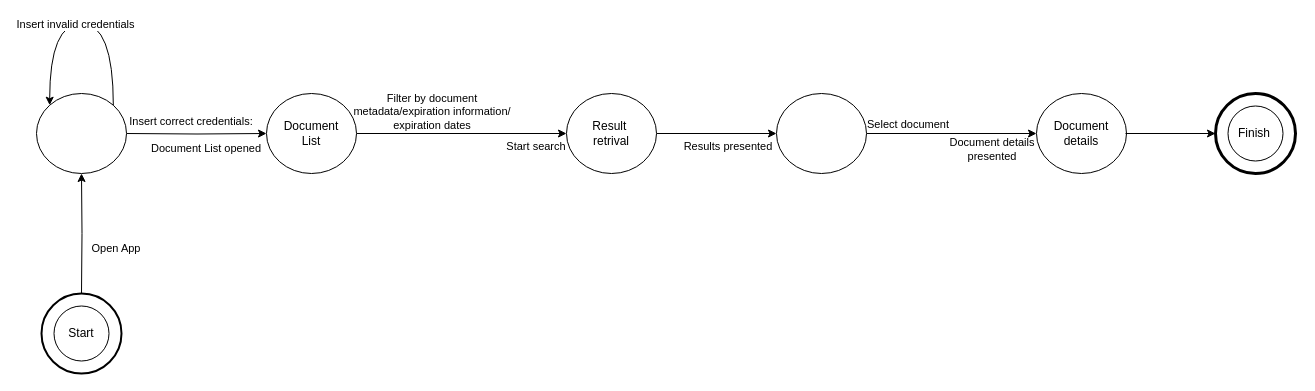
The diagram is 1315 pixels wide and 391 high, and some of its shapes have lost their labels. Each missing label, with the box of its shape:
Login: (36, 92, 126, 174)
Result ready: (776, 92, 866, 174)
